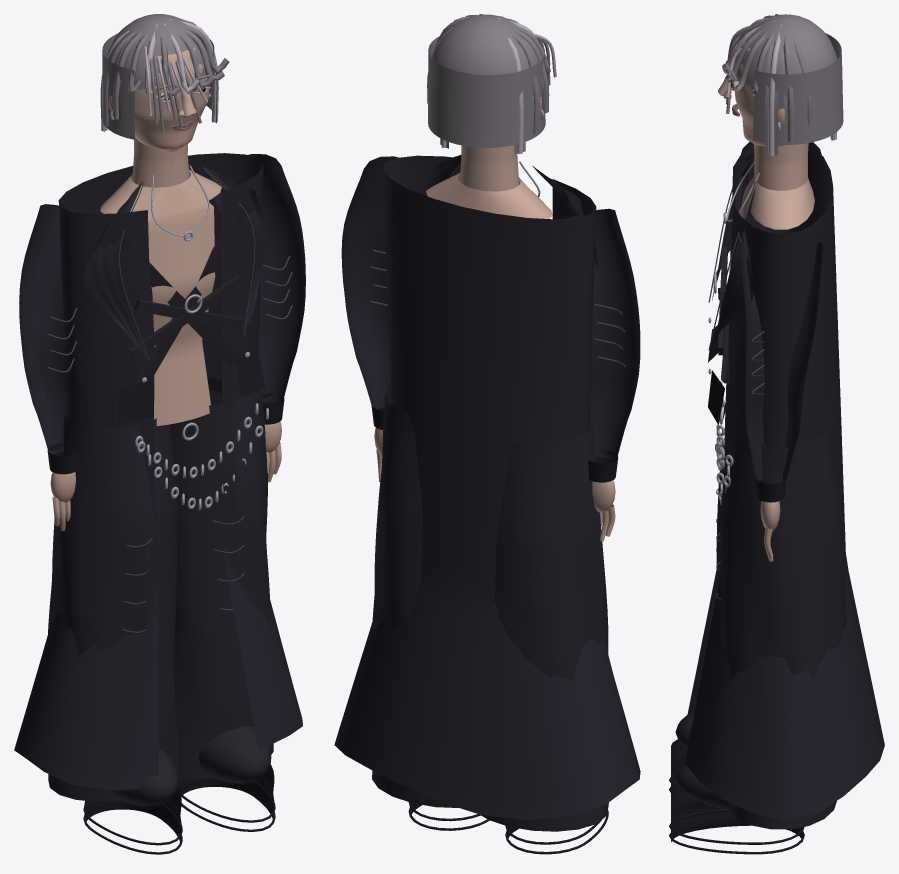
Rendered from look-5-crowd.glb.
3 views of the same model, side by side, from view 1: azimuth 30°, elevation 25°; view 2: azimuth 150°, elevation 25°; view 3: azimuth 270°, elevation 25° (orthographic). The views are drawn at different scales.
Visible parts, largest first — view 1: look-5-crowd, leg-1, leg-0, arm-0, arm-1; view 2: look-5-crowd, leg-0, arm-0, leg-1, arm-1; view 3: look-5-crowd, leg-1, arm-1, leg-0.
Part boxes in pixels (x1=…): look-5-crowd: x1=14, y1=14, x2=302, y2=790; leg-1: x1=153, y1=388, x2=275, y2=831; leg-0: x1=48, y1=391, x2=182, y2=854; arm-0: x1=19, y1=204, x2=86, y2=531; arm-1: x1=210, y1=154, x2=305, y2=482; look-5-crowd: x1=334, y1=14, x2=640, y2=819; leg-0: x1=480, y1=424, x2=608, y2=854; arm-0: x1=566, y1=208, x2=640, y2=541; leg-1: x1=372, y1=386, x2=489, y2=830; arm-1: x1=341, y1=156, x2=437, y2=481; look-5-crowd: x1=685, y1=14, x2=884, y2=819; leg-1: x1=669, y1=425, x2=846, y2=854; arm-1: x1=739, y1=242, x2=822, y2=561; leg-0: x1=669, y1=446, x2=724, y2=792.
Bounding box in the file's own units: 0.7542 × 2.04 × 0.4997.
